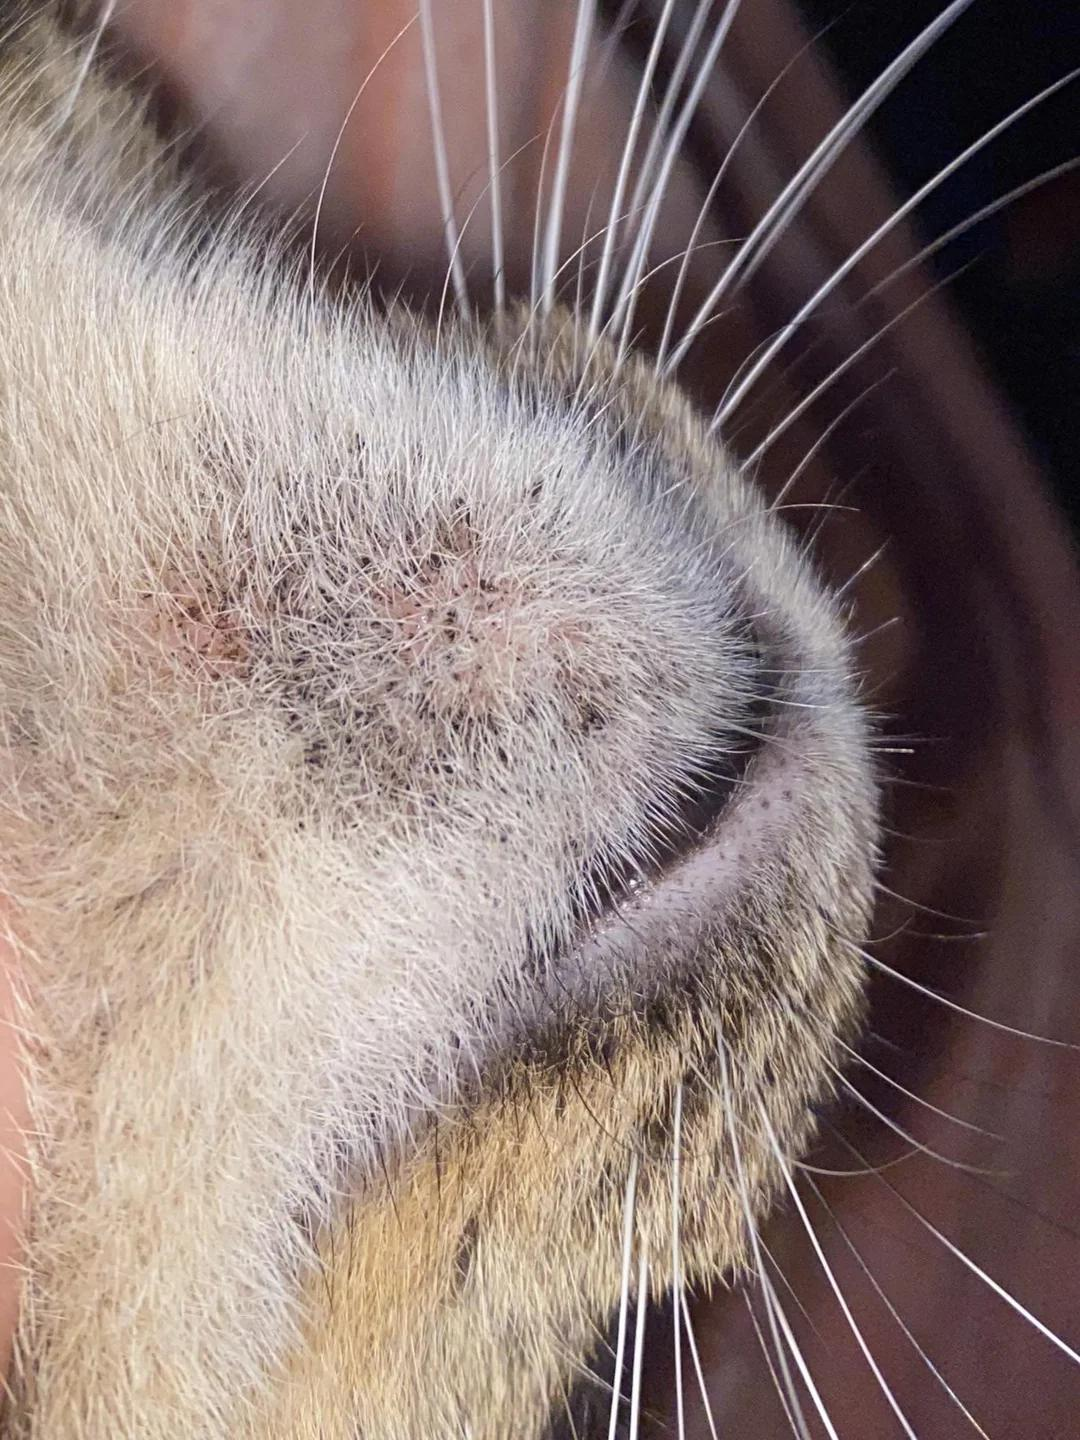acne: (152, 466, 702, 854)
